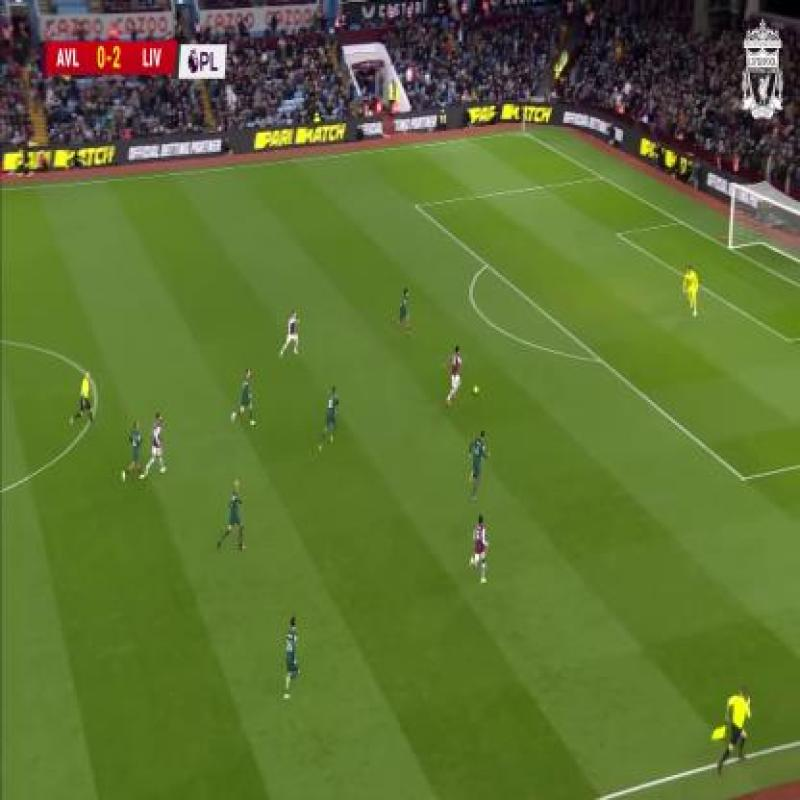1: (516, 128, 531, 140)
10: (480, 256, 494, 279)
11: (592, 344, 610, 375)
12: (736, 464, 752, 492)
2: (596, 169, 610, 187)
3: (674, 213, 690, 233)
7: (611, 221, 626, 248)
8: (780, 331, 798, 352)
9: (408, 196, 426, 216)
c: (84, 376, 114, 408)
